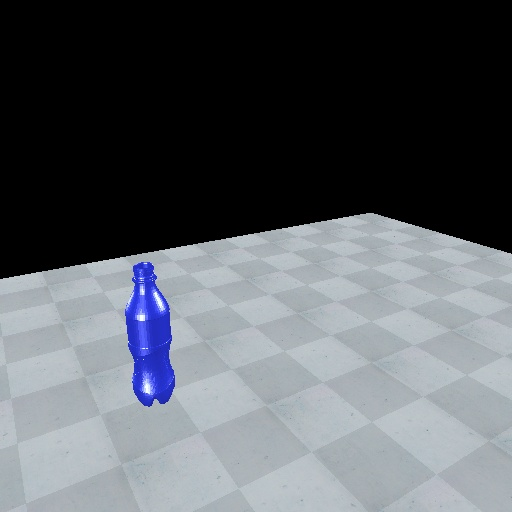bottle: (122, 258, 177, 408)
